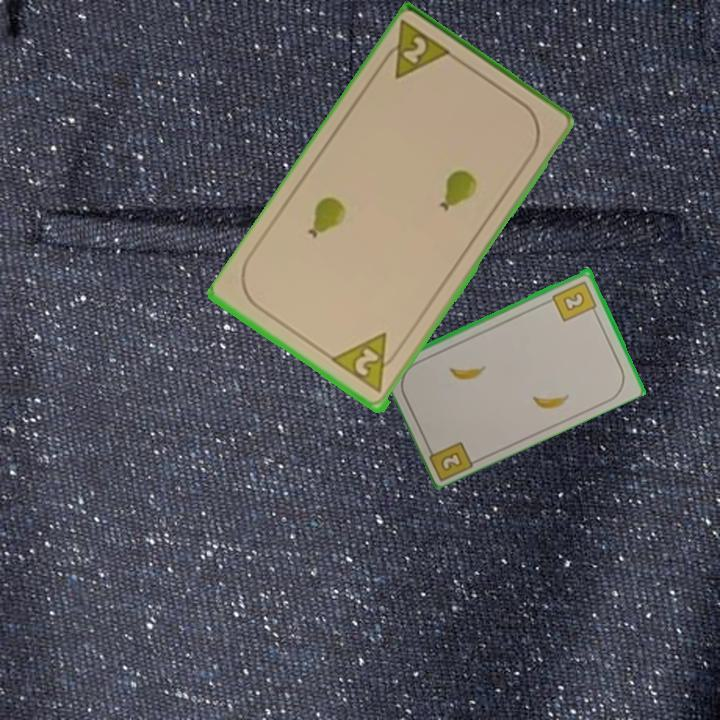2b: (549, 277, 600, 324), (423, 438, 477, 482)
2p: (330, 329, 404, 398), (399, 33, 430, 68)
